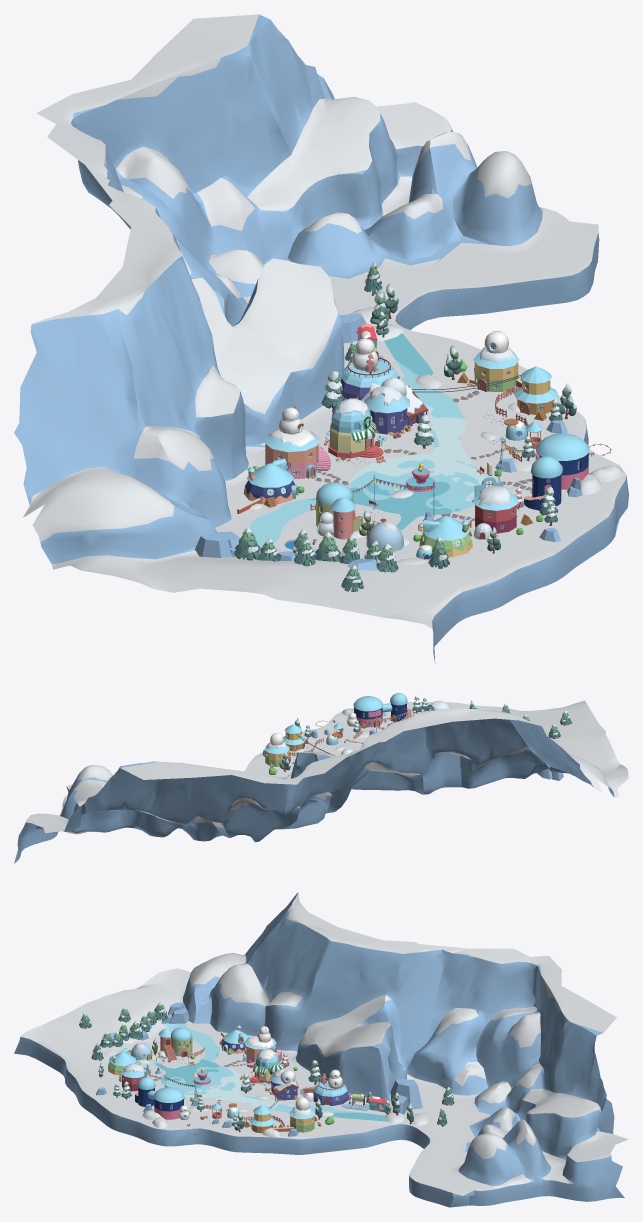
File: Individual_IceBreakerAlley_03.fbx
The picture shows the model from 3 angles, top to bottom: view 1: azimuth 30°, elevation 25°; view 2: azimuth 150°, elevation 25°; view 3: azimuth 270°, elevation 25°; orthographic projection. The views are drawn at different scales.
Parts seen in each view (by area): view 1: pasted__pasted__pasted__Berg1, pasted__pCube28, polySurface31, Igloo03, Igloo04, polySurface27, polySurface24, Igloo05, Igloo01, pasted__Igloo04_pCylinder3, Igloo06, pasted__pCylinder4; view 2: pasted__pasted__pasted__Berg1, pasted__pCube28, pasted__Igloo04_pCylinder3, pasted__pCylinder4; view 3: pasted__pasted__pasted__Berg1, pasted__pCube28, Igloo05, polySurface24, Igloo03, Igloo04, polySurface31, pasted__pasted__pasted__pasted__Object_IceRock11, pasted__Igloo04_pCylinder3, polySurface27, Igloo01, pasted__pCylinder4 (+1 smaller).
Part boxes in pixels (x1=…): pasted__pasted__pasted__Berg1: x1=14, y1=14, x2=628, y2=663; pasted__pCube28: x1=524, y1=433, x2=589, y2=510; polySurface31: x1=264, y1=405, x2=330, y2=479; Igloo03: x1=325, y1=398, x2=386, y2=458; Igloo04: x1=364, y1=377, x2=428, y2=434; polySurface27: x1=473, y1=476, x2=517, y2=539; polySurface24: x1=316, y1=482, x2=375, y2=539; Igloo05: x1=341, y1=338, x2=399, y2=400; Igloo01: x1=243, y1=458, x2=298, y2=504; pasted__Igloo04_pCylinder3: x1=473, y1=347, x2=519, y2=391; Igloo06: x1=418, y1=516, x2=472, y2=557; pasted__pCylinder4: x1=514, y1=366, x2=558, y2=414; pasted__pasted__pasted__Berg1: x1=14, y1=700, x2=628, y2=863; pasted__pCube28: x1=353, y1=693, x2=411, y2=727; pasted__Igloo04_pCylinder3: x1=264, y1=742, x2=289, y2=766; pasted__pCylinder4: x1=283, y1=724, x2=305, y2=751; pasted__pasted__pasted__Berg1: x1=14, y1=892, x2=628, y2=1207; pasted__pCube28: x1=135, y1=1077, x2=184, y2=1119; Igloo05: x1=303, y1=1069, x2=348, y2=1105; polySurface24: x1=158, y1=1027, x2=192, y2=1060; Igloo03: x1=249, y1=1049, x2=284, y2=1085; Igloo04: x1=269, y1=1068, x2=298, y2=1100; polySurface31: x1=244, y1=1026, x2=281, y2=1068; pasted__pasted__pasted__pasted__Object_IceRock11: x1=390, y1=1079, x2=422, y2=1109; pasted__Igloo04_pCylinder3: x1=289, y1=1106, x2=315, y2=1132; polySurface27: x1=119, y1=1063, x2=148, y2=1091; Igloo01: x1=221, y1=1025, x2=249, y2=1053; pasted__pCylinder4: x1=249, y1=1105, x2=274, y2=1133.
Size of the model in its own units: 12522 by 3242 by 14933.
